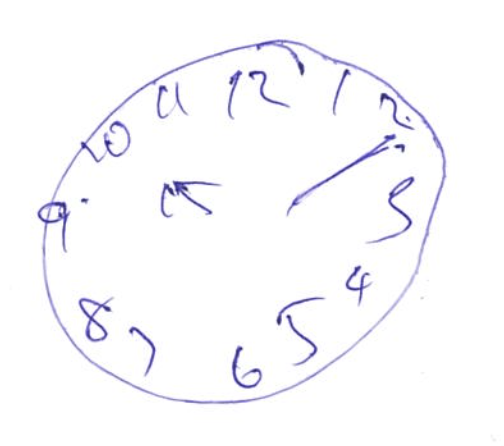10: (79, 120, 131, 163)
11: (155, 81, 189, 122)
12: (227, 61, 289, 121), (328, 66, 351, 118)
2: (379, 91, 417, 134)
3: (367, 176, 415, 244)
4: (342, 262, 373, 307)
5: (274, 295, 329, 367)
6: (229, 345, 266, 391)
7: (125, 324, 158, 379)
8: (78, 292, 114, 343)
9: (35, 198, 72, 254)
contour: (38, 38, 450, 408)
